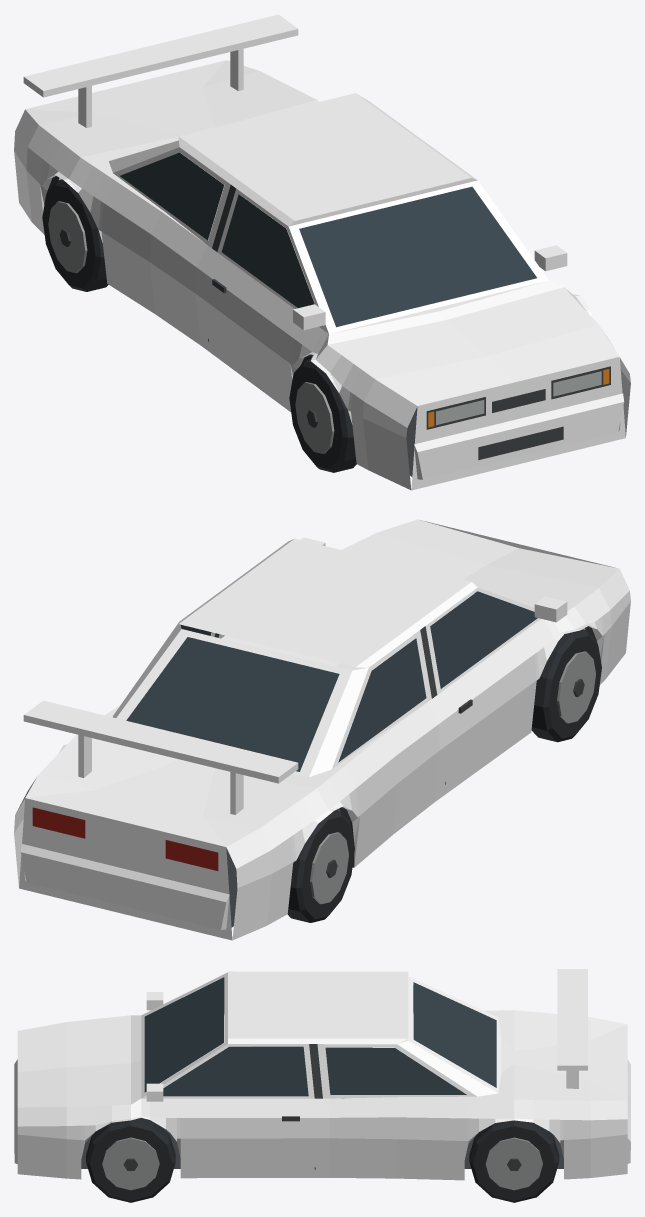
Rendered from hozuki_natsuzora_corrida.glb.
3 views of the same model, one above another, from view 1: azimuth 30°, elevation 25°; view 2: azimuth 150°, elevation 25°; view 3: azimuth 270°, elevation 25° (orthographic). The views are drawn at different scales.
Visible parts, largest first — view 1: hozuki_natsuzora_corrida; view 2: hozuki_natsuzora_corrida; view 3: hozuki_natsuzora_corrida.
Boxes of the visible parts, x1,y1,x2,y2 form: hozuki_natsuzora_corrida: (14, 14, 630, 490); hozuki_natsuzora_corrida: (14, 519, 630, 940); hozuki_natsuzora_corrida: (14, 969, 630, 1202).
Size of the model in its own units: 1.74 by 1.19 by 4.44.
8 materials, 1 textured.
